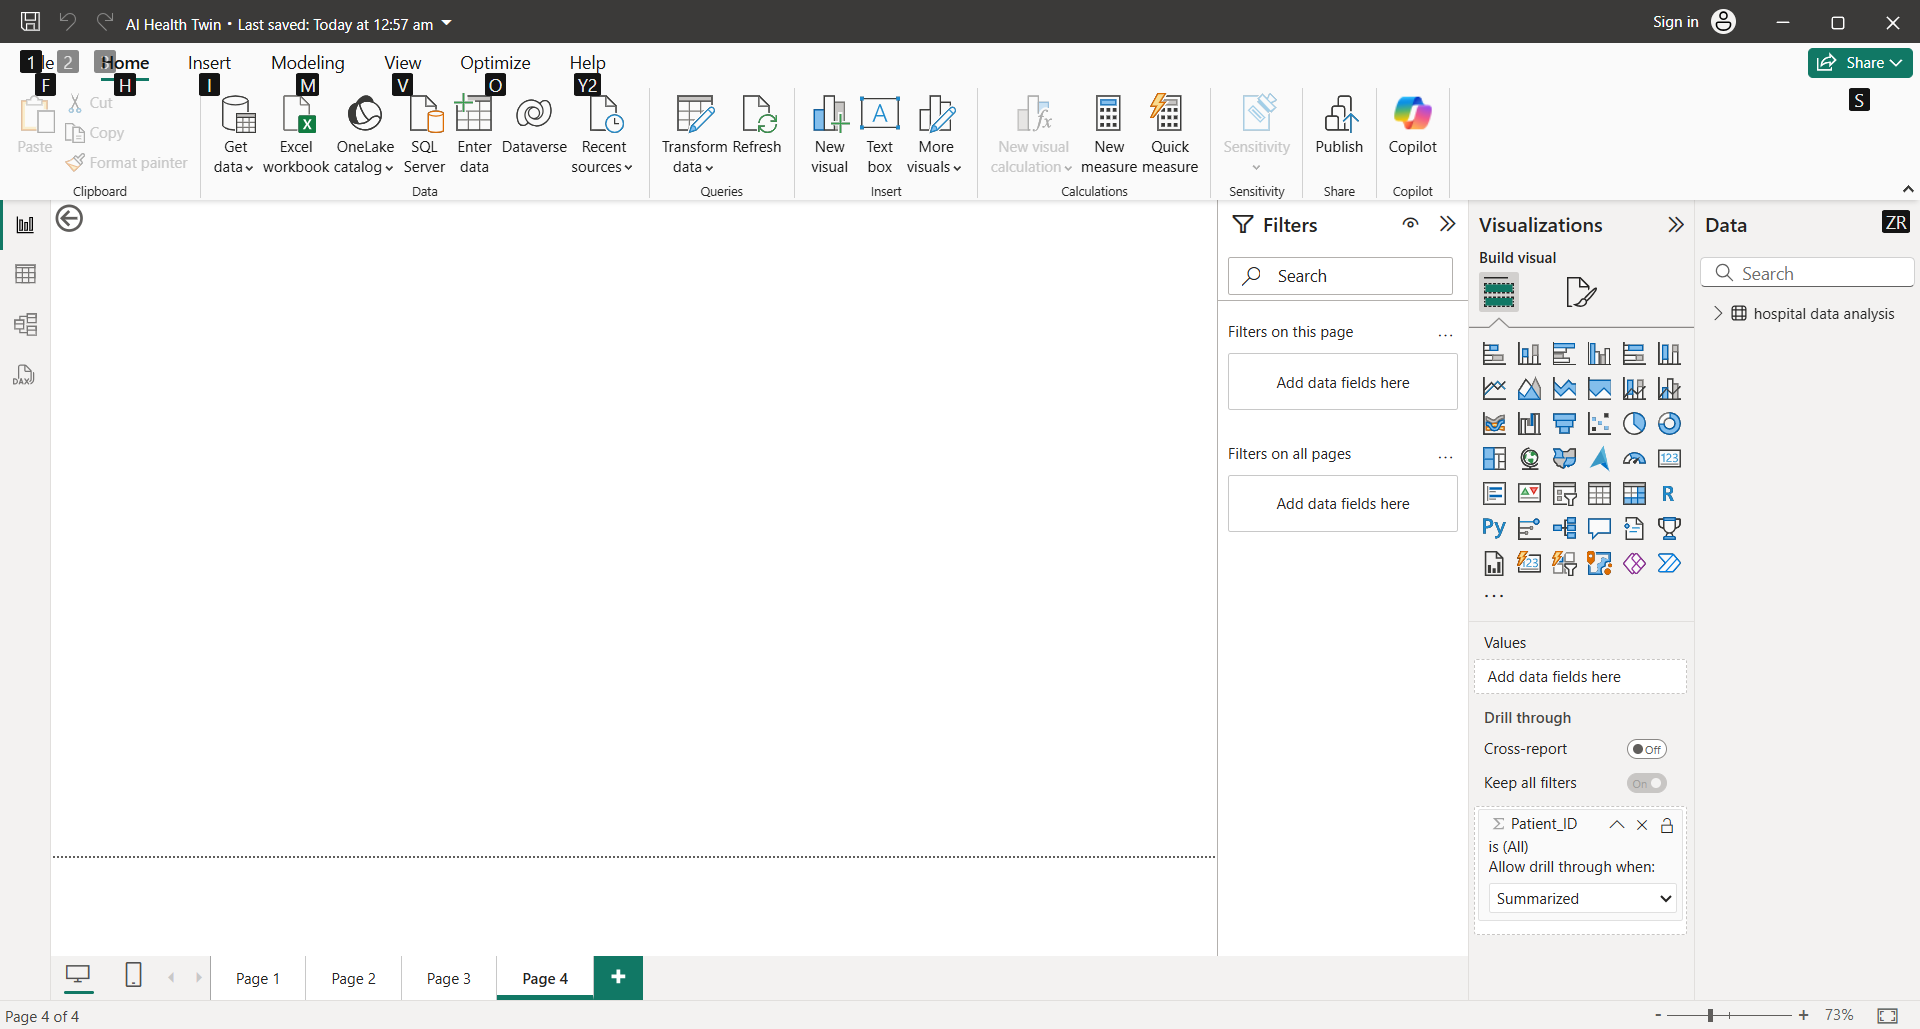

The dashboard page shown, as its layout file describes it:
{"tool":"powerbi","page":{"name":"Page 4","canvas":[1280,720],"ordinal":3},"visuals":[{"type":"actionButton","box":[0,0,100,40],"z":1}]}

Visuals, with their boxes on the page's 1280x720 design canvas (x1, y1, x2, y2). These are canvas units, not pixel positions in the 1920x1029 screenshot, which may show the page scaled, cropped or inside an application window:
actionButton: BBox(0, 0, 100, 40)
